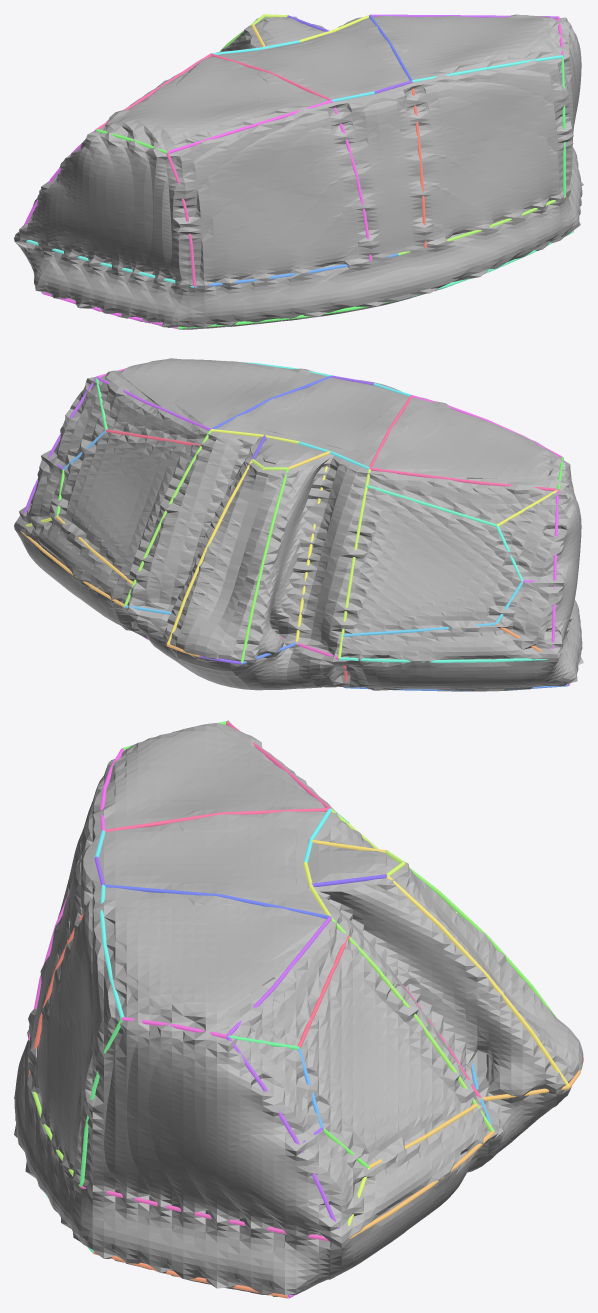
Rendered from ils_speaker.gltf.
The picture shows the model from 3 angles, top to bottom: view 1: azimuth 30°, elevation 25°; view 2: azimuth 150°, elevation 25°; view 3: azimuth 270°, elevation 25°; orthographic projection. The views are drawn at different scales.
Bounding box in the file's own units: 0.8233 × 0.332 × 0.535.
